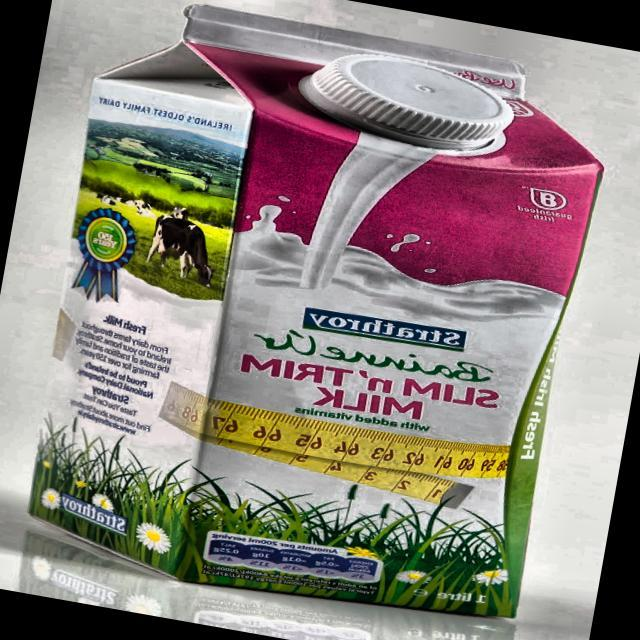cardboard: (13, 0, 619, 639)
